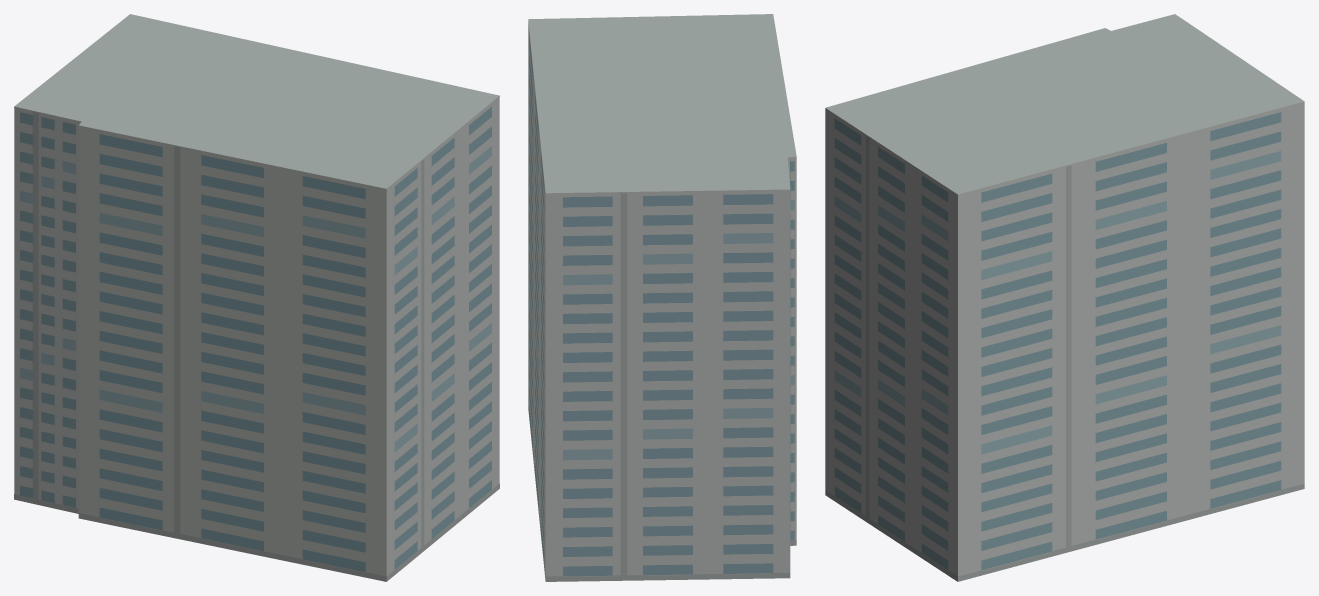
Rendered from survey-upis-32769752.glb.
The picture shows the model from 3 angles, left to right: view 1: azimuth 30°, elevation 25°; view 2: azimuth 150°, elevation 25°; view 3: azimuth 270°, elevation 25°; orthographic projection.
Parts seen in each view (by area): view 1: survey-upis-32769752.tmp; view 2: survey-upis-32769752.tmp; view 3: survey-upis-32769752.tmp.
Boxes of the visible parts, x1,y1,x2,y2 form: survey-upis-32769752.tmp: [14, 14, 499, 581]; survey-upis-32769752.tmp: [528, 14, 796, 581]; survey-upis-32769752.tmp: [825, 14, 1304, 581].
Size of the model in its own units: 76.92 by 76.95 by 86.33.
